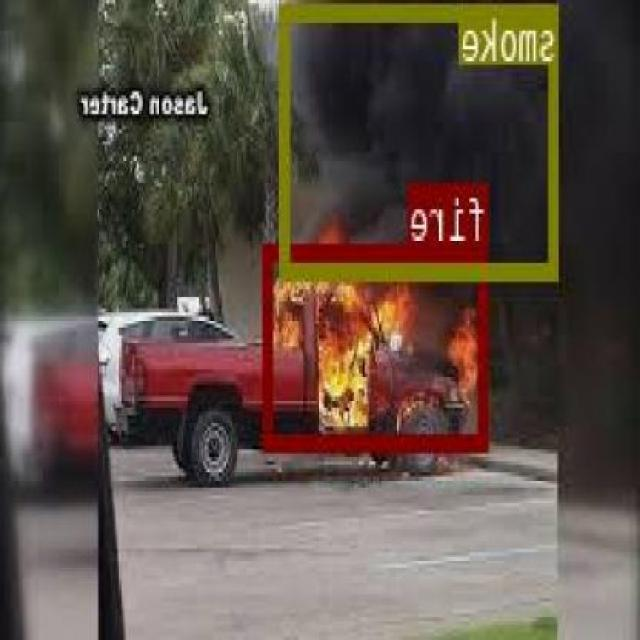Fire: (266, 240, 491, 449)
Smoke: (282, 2, 561, 276)
